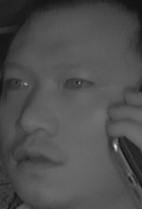eye: (63, 72, 96, 94), (6, 74, 29, 92)
mouth: (12, 142, 66, 175)
